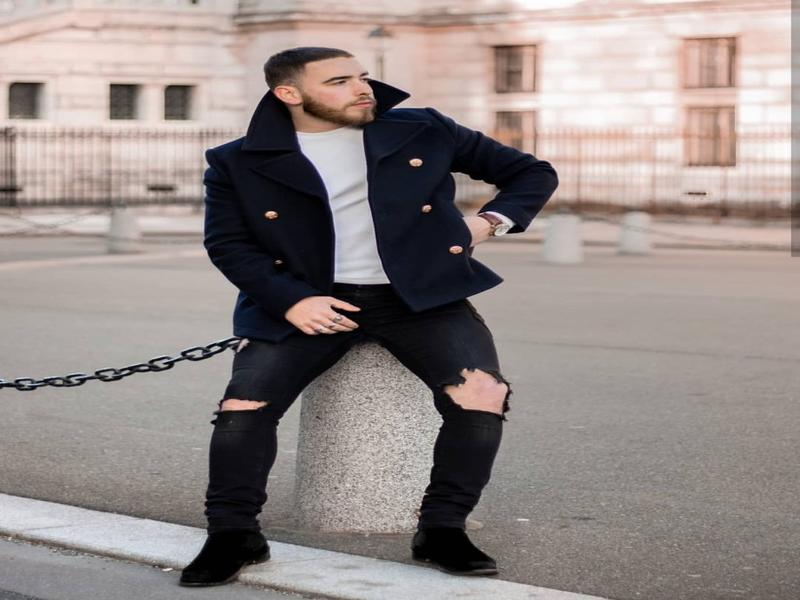shoes_men_chelsea_chelseaboots_suede_none_none_black_none: (168, 519, 283, 593), (397, 524, 518, 583)
